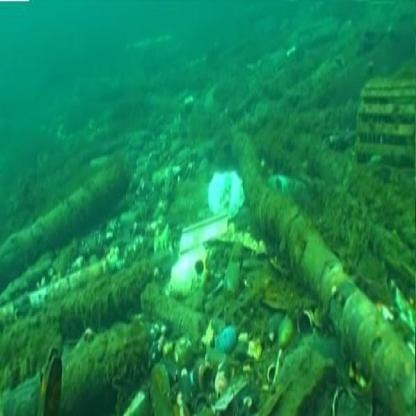misc: (174, 145, 232, 307)
rod: (232, 150, 411, 388), (3, 171, 149, 245)
